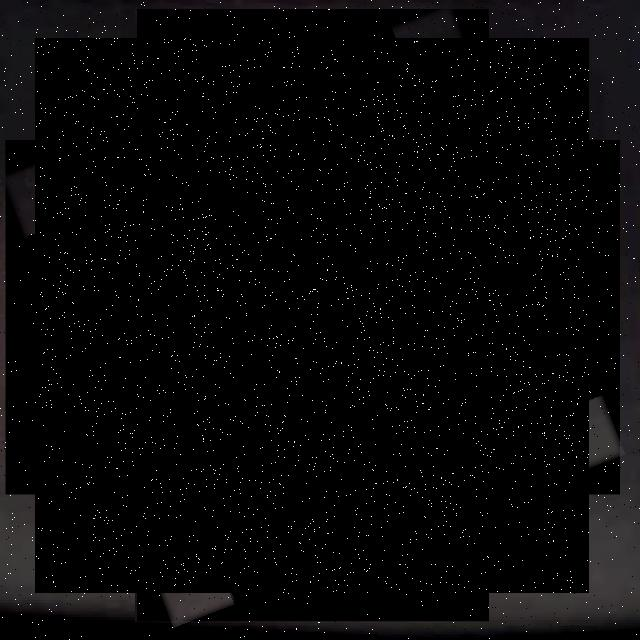dua puluh ribu rupiah: (35, 38, 589, 593)
